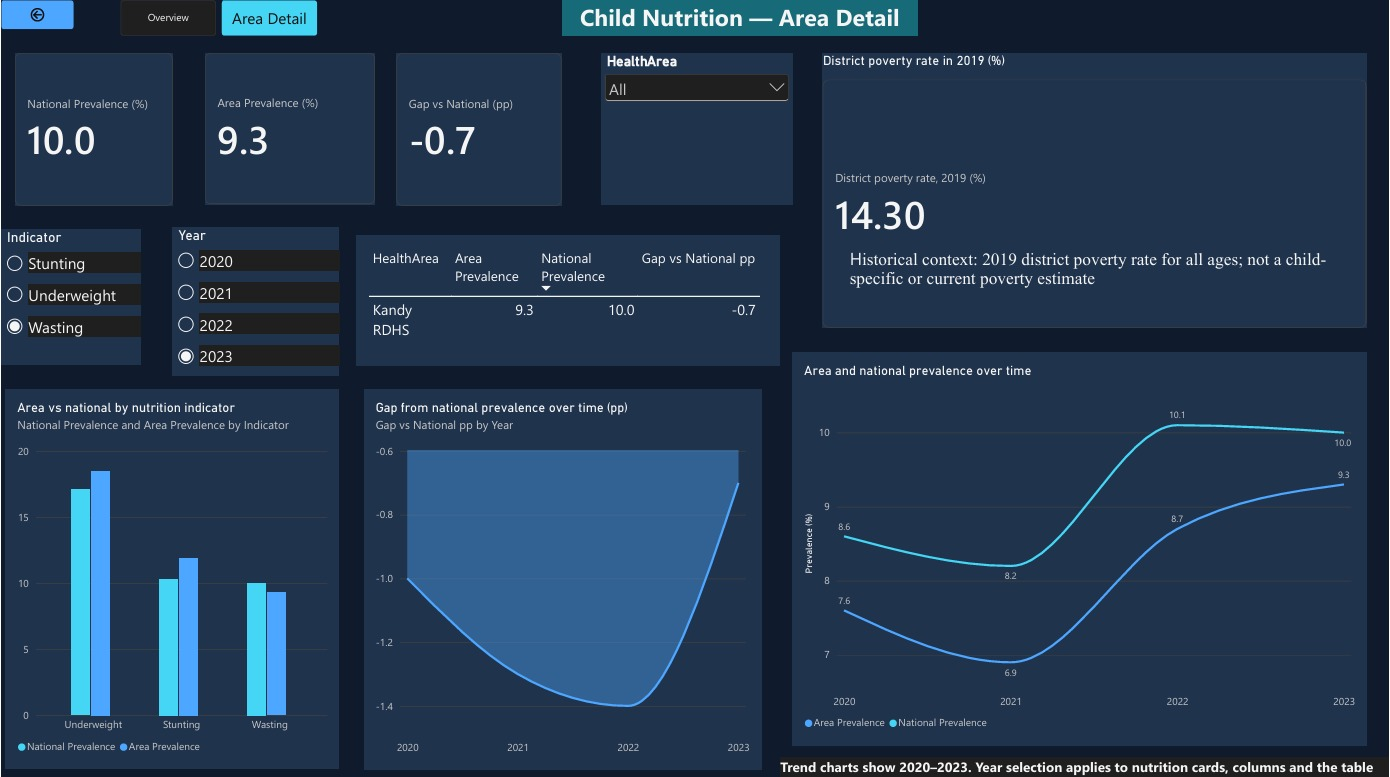

The dashboard page shown, as its layout file describes it:
{"tool":"powerbi","page":{"name":"Area Detail","canvas":[1920,1080],"ordinal":1},"visuals":[{"type":"slicer","fields":{"Values":["Date_Lookup.Year"]},"box":[237.3,314.3,230.9,205.3],"z":0},{"type":"slicer","fields":{"Values":["Indicator_Lookup.Indicator"]},"box":[0,317,193.5,187.3],"z":1000},{"type":"lineChart","title":"Area and national prevalence over time","fields":{"Category":["Date_Lookup.Year"],"Y":["Nutrition_Areas.Area Prevalence","Nutrition_National.National Prevalence"]},"box":[1094.7,487.5,795.4,543.1],"z":2000},{"type":"cardVisual","fields":{"Data":["Nutrition_National.National Prevalence"]},"box":[19.2,72.7,218.1,211.7],"z":3000},{"type":"tableEx","fields":{"Values":["HealthArea_Lookup.HealthArea","Nutrition_Areas.Area Prevalence","Nutrition_National.National Prevalence","Nutrition_Areas.Gap vs National pp"]},"box":[491.8,325,585.8,179.6],"z":4000},{"type":"slicer","fields":{"Values":["HealthArea_Lookup.HealthArea"]},"box":[829.6,72.7,265.1,209.5],"z":5000},{"type":"cardVisual","title":"District poverty rate in 2019 (%)","fields":{"Data":["Max(HealthArea_Lookup.PovertyHeadcountPct2019)"]},"box":[1137.5,72.7,752.6,380.6],"z":6000},{"type":"textbox","box":[1173.8,340,675.6,77],"z":7000},{"type":"actionButton","box":[0,0,100,40],"z":8000},{"type":"textbox","box":[776,0,491.9,49.4],"z":9000},{"type":"textbox","box":[1077.6,1047.7,842.4,32.1],"z":10000},{"type":"cardVisual","fields":{"Data":["Nutrition_Areas.Area Prevalence"]},"box":[282.2,72.7,235.2,209.5],"z":11000},{"type":"cardVisual","fields":{"Data":["Nutrition_Areas.Gap vs National pp"]},"box":[547.3,72.7,228.8,211.7],"z":12000},{"type":"clusteredColumnChart","title":"Area vs national by nutrition indicator","fields":{"Category":["Indicator_Lookup.Indicator"],"Y":["Nutrition_National.National Prevalence","Nutrition_Areas.Area Prevalence"]},"box":[6.2,539.3,461.1,524.9],"z":13000},{"type":"areaChart","title":"Gap from national prevalence over time (pp)","fields":{"Category":["Date_Lookup.Year"],"Y":["Nutrition_Areas.Gap vs National pp"]},"box":[502.4,538.8,549.5,526],"z":14000},{"type":"pageNavigator","box":[164.6,0,273.7,49.2],"z":15000}]}

Visuals, with their boxes in screenshot pixels (x1, y1, x2, y2), scaled from the page's 1920x1080 canvas onto the 1390x777 screenshot:
slicer - Date_Lookup.Year: <bbox>172, 226, 339, 374</bbox>
slicer - Indicator_Lookup.Indicator: <bbox>0, 228, 140, 363</bbox>
"Area and national prevalence over time" lineChart: <bbox>793, 351, 1368, 741</bbox>
cardVisual - Nutrition_National.National Prevalence: <bbox>14, 52, 172, 205</bbox>
tableEx - HealthArea_Lookup.HealthArea x Nutrition_Areas.Area Prevalence: <bbox>356, 234, 780, 363</bbox>
slicer - HealthArea_Lookup.HealthArea: <bbox>601, 52, 793, 203</bbox>
"District poverty rate in 2019 (%)" cardVisual: <bbox>824, 52, 1368, 326</bbox>
textbox: <bbox>850, 245, 1339, 300</bbox>
actionButton: <bbox>0, 0, 72, 29</bbox>
textbox: <bbox>562, 0, 918, 36</bbox>
textbox: <bbox>780, 754, 1389, 776</bbox>
cardVisual - Nutrition_Areas.Area Prevalence: <bbox>204, 52, 375, 203</bbox>
cardVisual - Nutrition_Areas.Gap vs National pp: <bbox>396, 52, 562, 205</bbox>
"Area vs national by nutrition indicator" clusteredColumnChart: <bbox>4, 388, 338, 766</bbox>
"Gap from national prevalence over time (pp)" areaChart: <bbox>364, 388, 762, 766</bbox>
pageNavigator: <bbox>119, 0, 317, 35</bbox>
